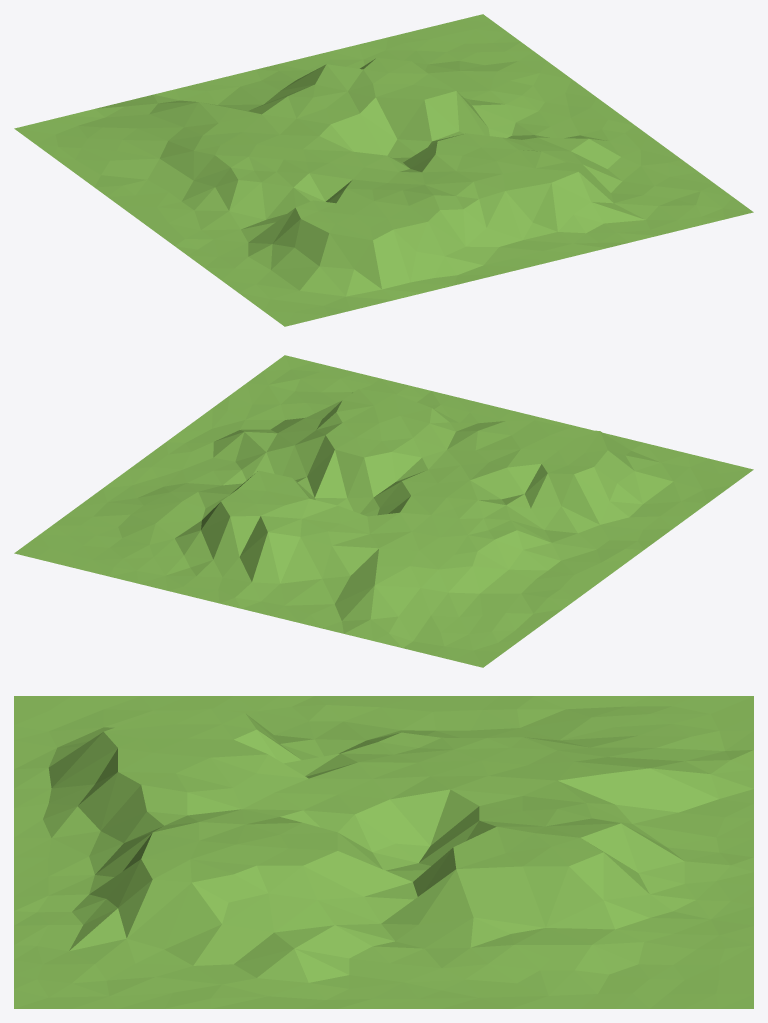
Rendered from MT_Terrain_M_d_15.fbx.
The picture shows the model from 3 angles, top to bottom: view 1: azimuth 30°, elevation 25°; view 2: azimuth 150°, elevation 25°; view 3: azimuth 270°, elevation 25°; orthographic projection. The views are drawn at different scales.
Visible parts, largest first — view 1: MT_Terrain_M_d_15; view 2: MT_Terrain_M_d_15; view 3: MT_Terrain_M_d_15.
Boxes of the visible parts, x1,y1,x2,y2 form: MT_Terrain_M_d_15: [14, 14, 753, 326]; MT_Terrain_M_d_15: [14, 355, 753, 667]; MT_Terrain_M_d_15: [14, 696, 753, 1008].
Size of the model in its own units: 5000 by 381 by 5000.
